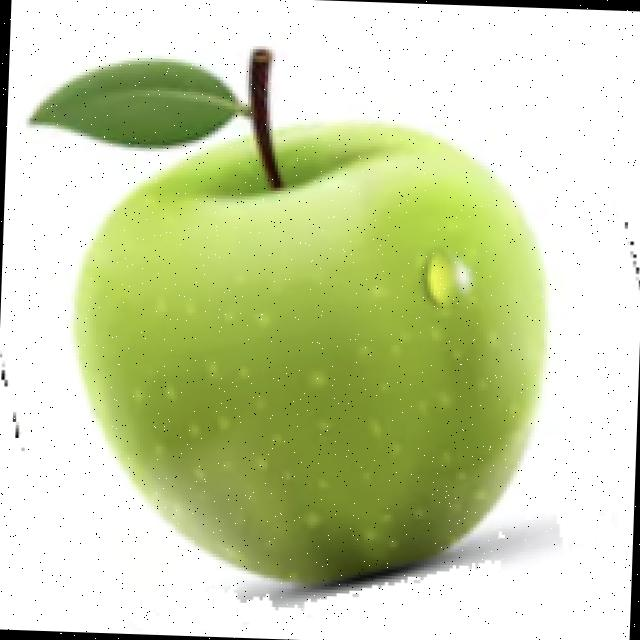apple: (20, 43, 565, 611)
